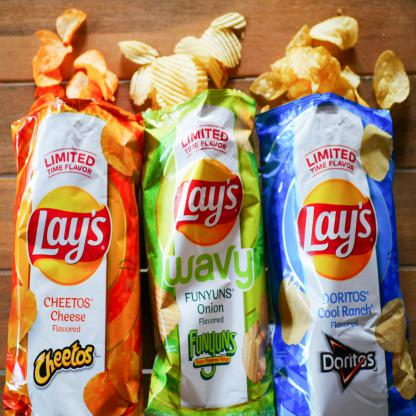potatochip: (248, 85, 416, 416), (128, 82, 282, 416), (1, 91, 146, 415)
